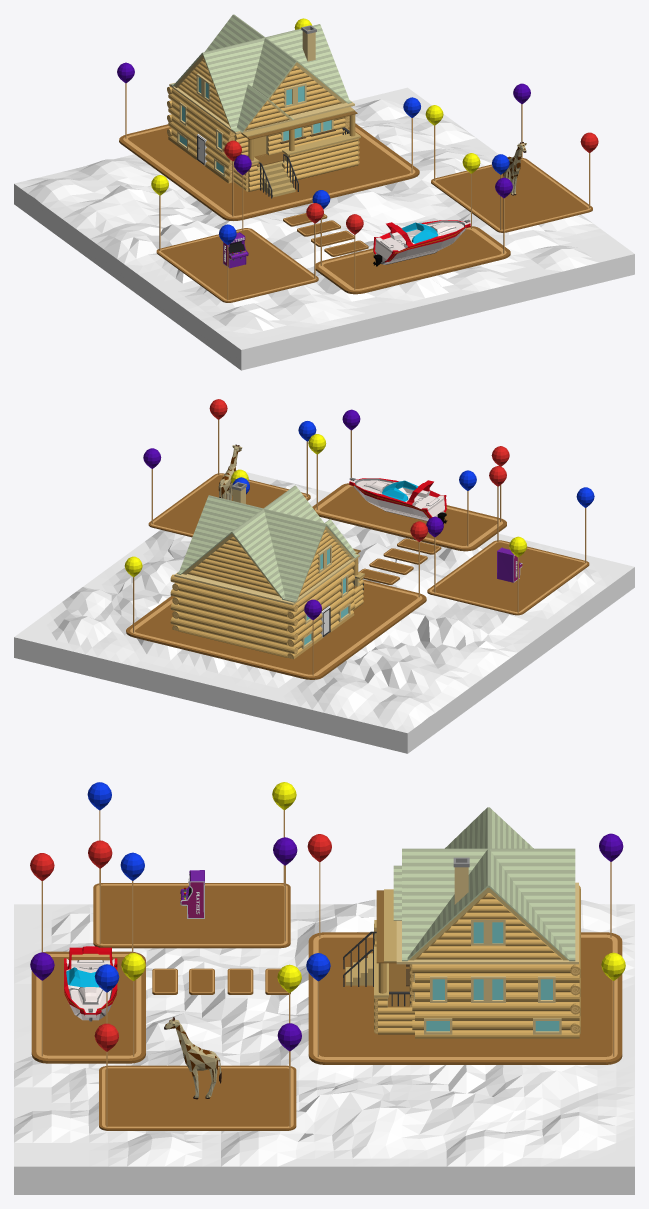
The picture shows the model from 3 angles, top to bottom: view 1: azimuth 30°, elevation 25°; view 2: azimuth 150°, elevation 25°; view 3: azimuth 270°, elevation 25°; orthographic projection. The views are drawn at different scales.
Parts seen in each view (by area): view 1: Cube.013, Cube.1516, VEHICLES_BOAT, OBJRANDOM_ARCADE, ANIMAL_JIRAFA; view 2: Cube.013, Cube.1516, VEHICLES_BOAT, OBJRANDOM_ARCADE, ANIMAL_JIRAFA; view 3: Cube.013, Cube.1516, VEHICLES_BOAT, ANIMAL_JIRAFA, OBJRANDOM_ARCADE.
Boxes of the visible parts, left/top/right/bottom form: Cube.013: left=14, top=18, right=634, bottom=370; Cube.1516: left=167, top=14, right=360, bottom=198; VEHICLES_BOAT: left=373, top=219, right=470, bottom=266; OBJRANDOM_ARCADE: left=223, top=232, right=248, bottom=268; ANIMAL_JIRAFA: left=503, top=142, right=526, bottom=195; Cube.013: left=14, top=399, right=634, bottom=753; Cube.1516: left=170, top=482, right=364, bottom=659; VEHICLES_BOAT: left=349, top=477, right=447, bottom=523; OBJRANDOM_ARCADE: left=497, top=547, right=522, bottom=582; ANIMAL_JIRAFA: left=218, top=444, right=242, bottom=500; Cube.013: left=14, top=782, right=634, bottom=1194; Cube.1516: left=343, top=807, right=580, bottom=1038; VEHICLES_BOAT: left=64, top=946, right=117, bottom=1021; ANIMAL_JIRAFA: left=164, top=1017, right=221, bottom=1099; OBJRANDOM_ARCADE: left=180, top=870, right=204, bottom=918.
Size of the model in its own units: 4000 by 1666 by 4000.
Materials: 45 (2 with a texture image).
